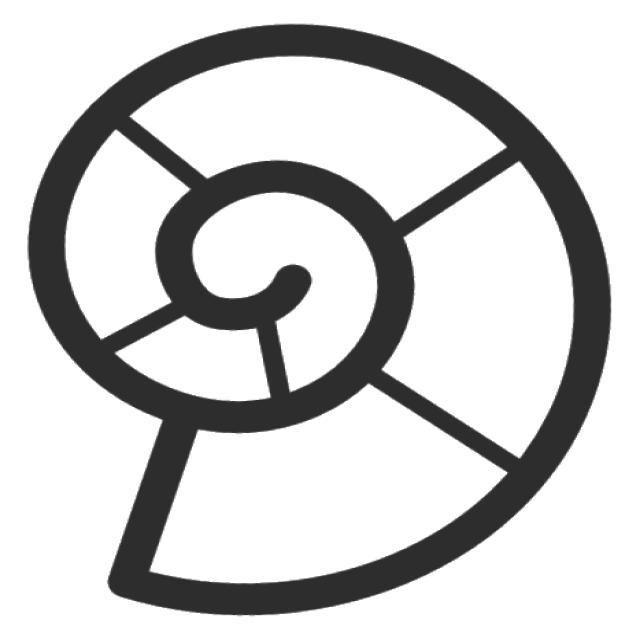fossil: (15, 15, 625, 632)
